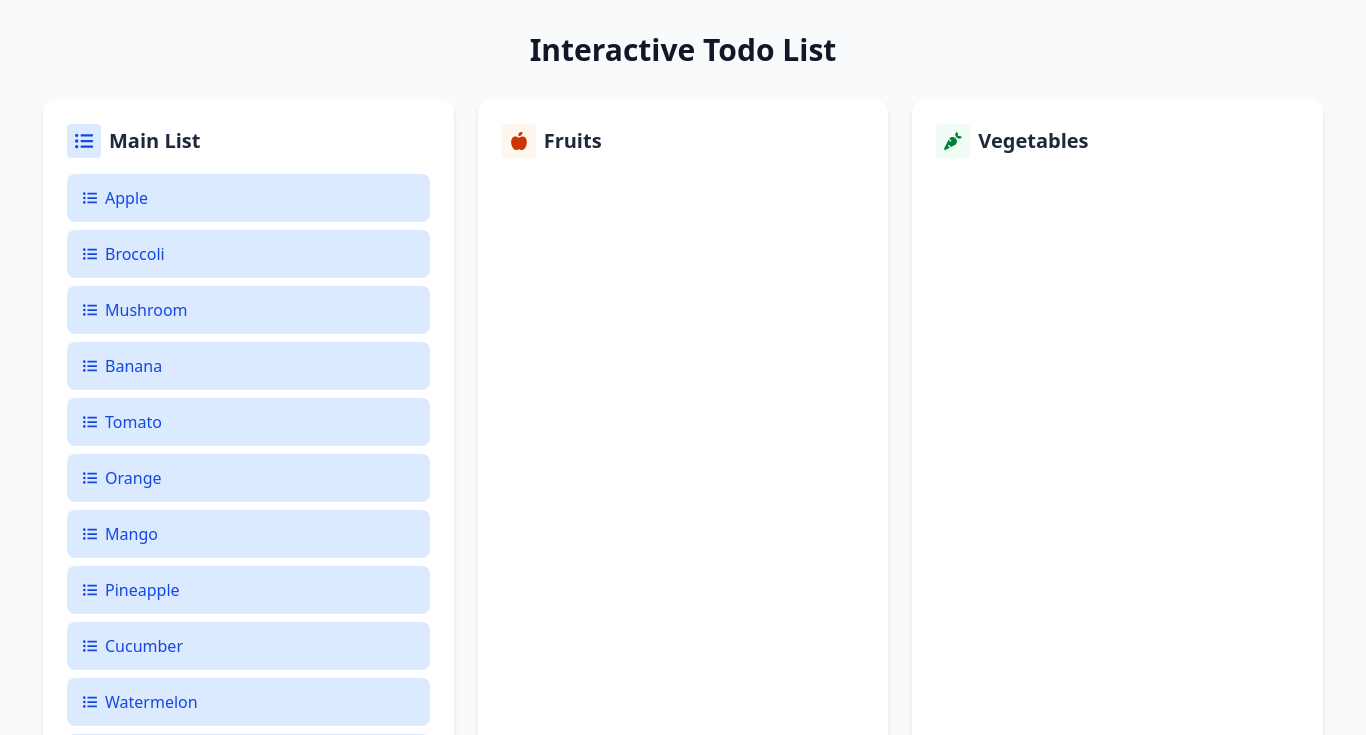
Test: App Integration Tests › shows progress bar for items in type lists
The width and height of the screenshot is (1366, 735).
Click the button "Tomato".
click(133, 422)  # box [67, 398, 430, 446]
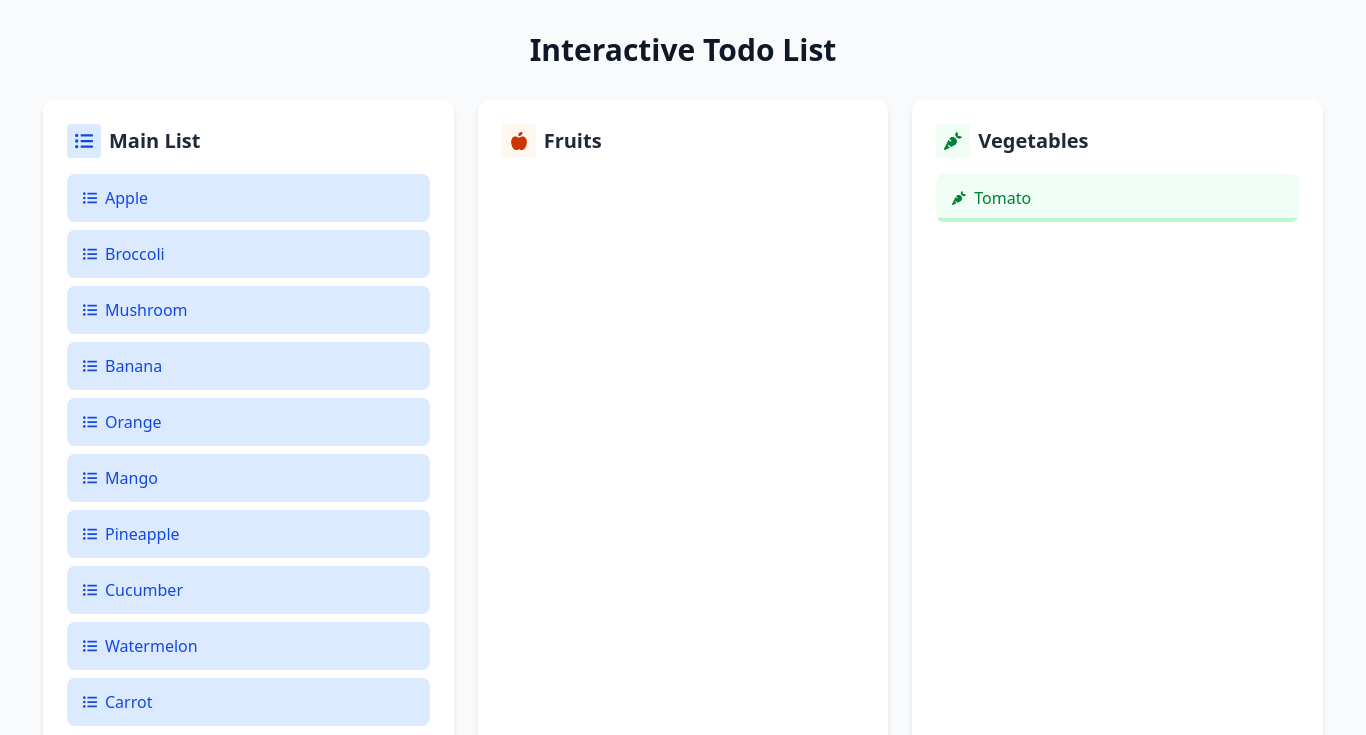
Expected: the progress indicator named "Timer for Tomato" is shown, [936, 218, 1299, 222]
